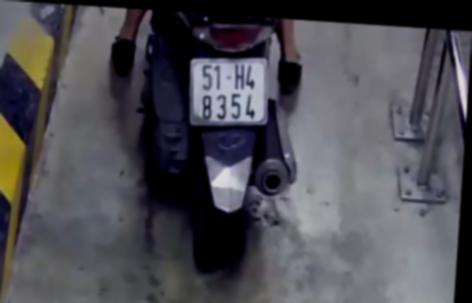License_Plate: (181, 52, 276, 134)
